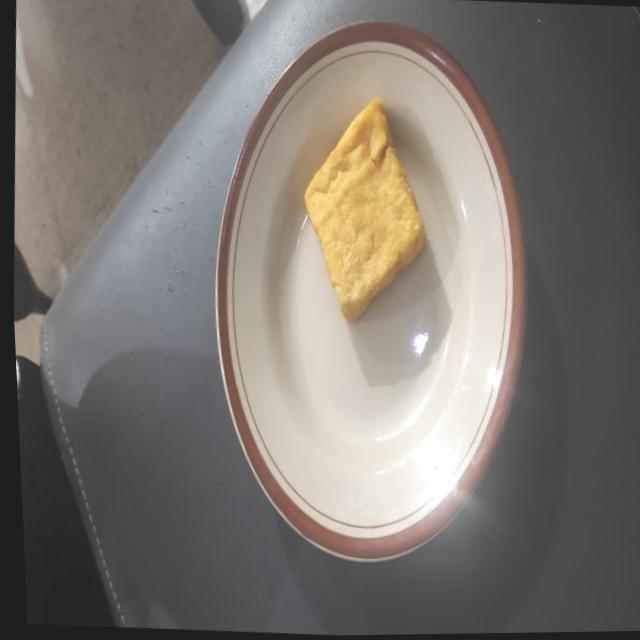tahu_goreng: (304, 98, 426, 321)
